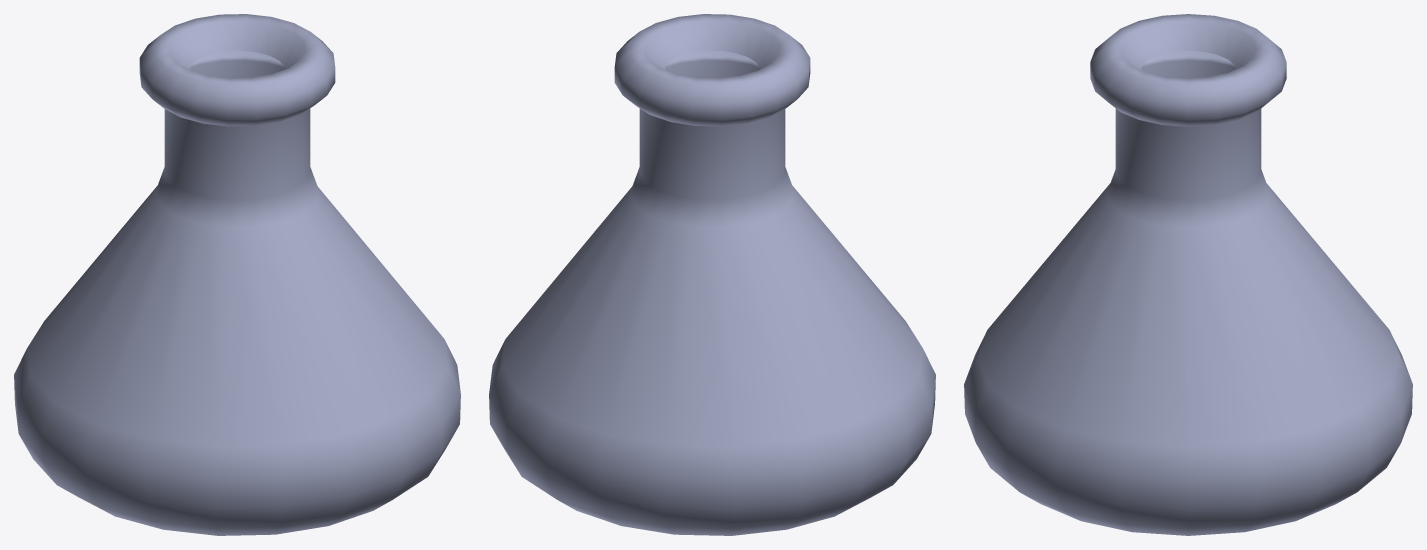
The model's file is beaker.dae.
The picture shows the model from 3 angles, left to right: view 1: azimuth 30°, elevation 25°; view 2: azimuth 150°, elevation 25°; view 3: azimuth 270°, elevation 25°; orthographic projection.
Visible parts, largest first — view 1: Beaker; view 2: Beaker; view 3: Beaker.
Boxes of the visible parts, x1,y1,x2,y2 form: Beaker: (14,14,460,535); Beaker: (489,14,935,535); Beaker: (964,14,1412,535).
Size of the model in its own units: 0.4949 by 0.5059 by 0.4949.
1 material, 1 textured.
